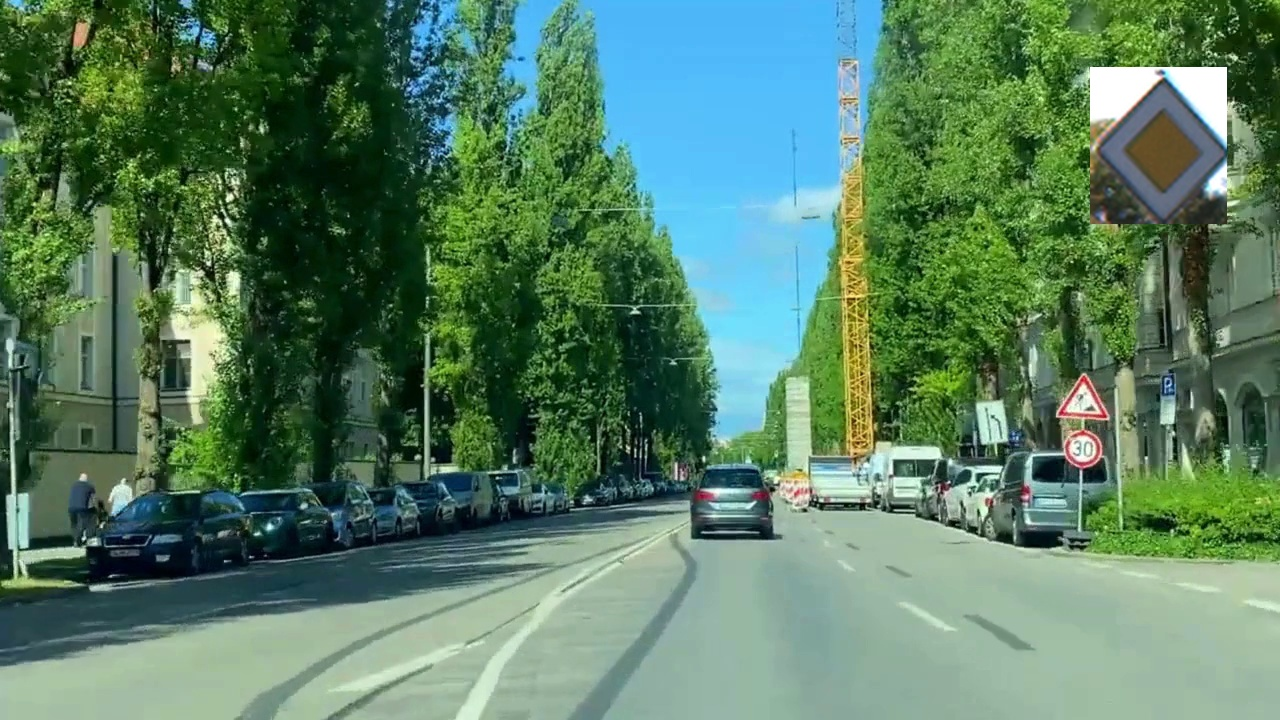Priority road: (1090, 67, 1227, 224)
